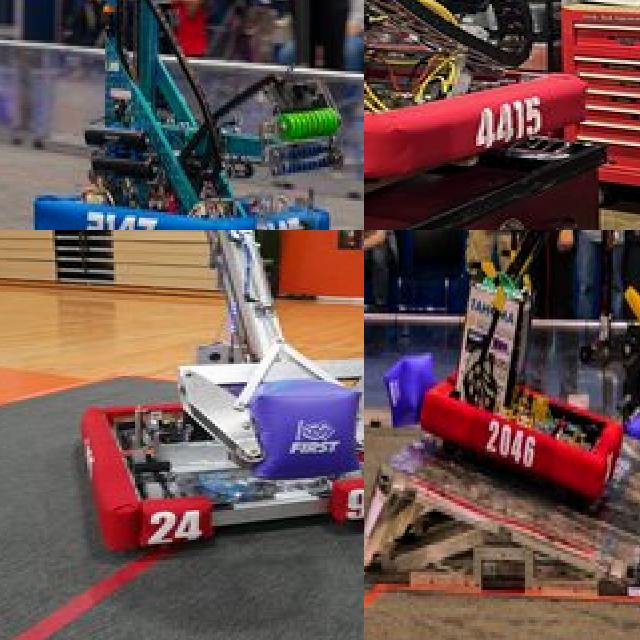FRC-Robots: (44, 230, 364, 554), (1, 0, 340, 230), (393, 230, 640, 529), (364, 0, 640, 214)
